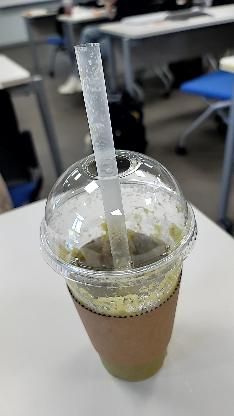Plastic Cup: (42, 149, 201, 381), (38, 148, 198, 286), (74, 44, 140, 276)
